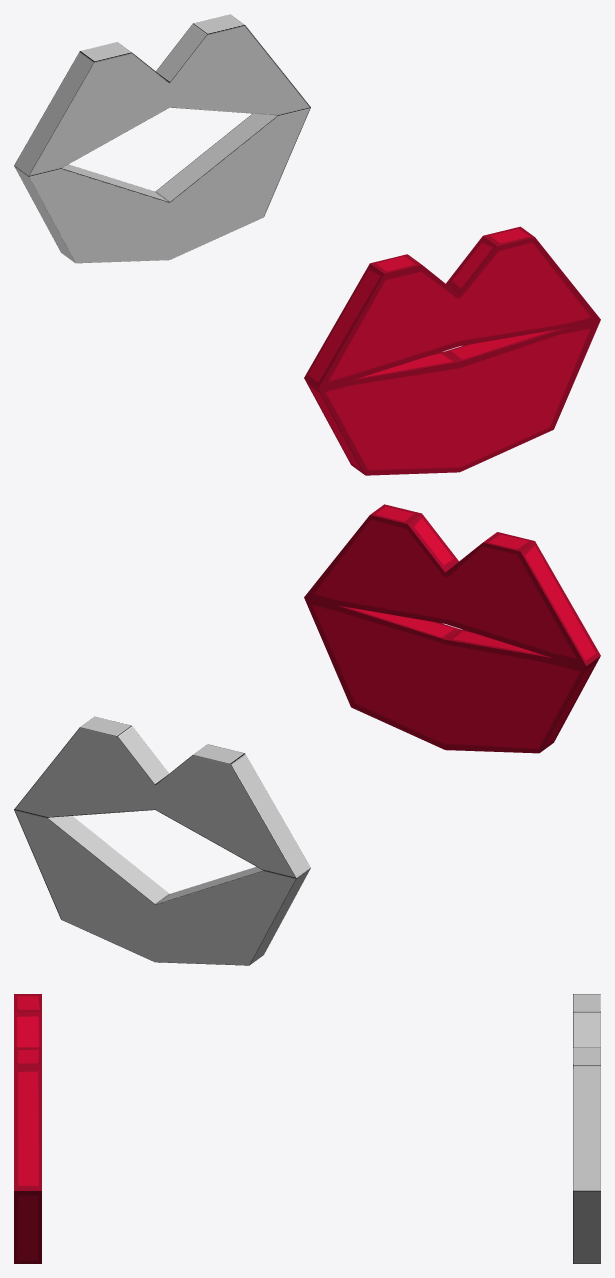
Rendered from mouths-1c.dae.
3 views of the same model, one above another, from view 1: azimuth 30°, elevation 25°; view 2: azimuth 150°, elevation 25°; view 3: azimuth 270°, elevation 25° (orthographic). The views are drawn at different scales.
Visible parts, largest first — view 1: mouth-0, mouth-1; view 2: mouth-0, mouth-1; view 3: mouth-1, mouth-0.
Part boxes in pixels (bbox=[...]): mouth-0: bbox=[304, 226, 600, 475]; mouth-1: bbox=[14, 14, 310, 263]; mouth-0: bbox=[304, 504, 600, 753]; mouth-1: bbox=[14, 716, 310, 965]; mouth-1: bbox=[573, 994, 600, 1263]; mouth-0: bbox=[14, 994, 41, 1263].
Size of the model in its own units: 0.5625 by 1.05 by 0.4125.
Materials: 2 (2 with a texture image).
